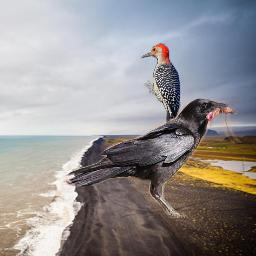Crow: (63, 94, 248, 218)
Woodpecker: (141, 43, 181, 132)
